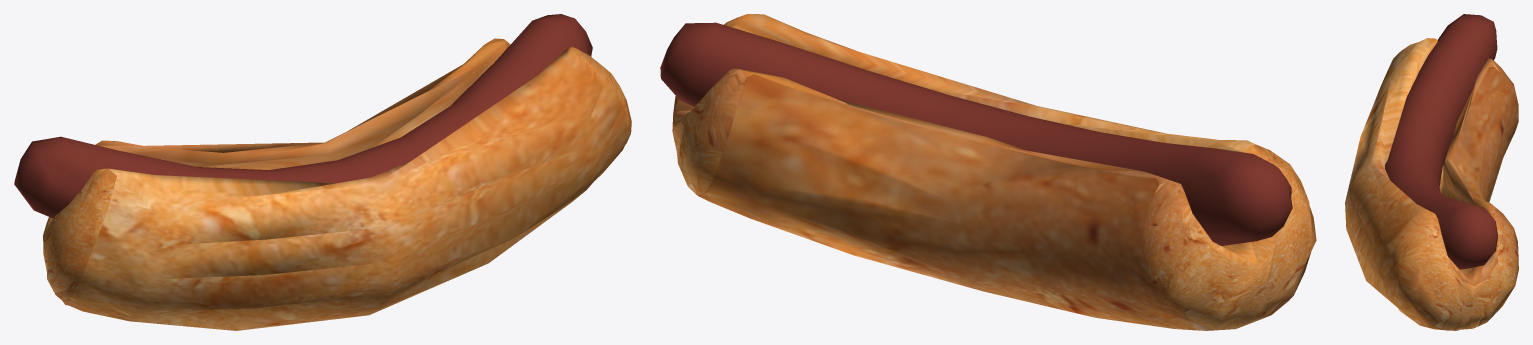
Rendered from hotdog.FBX.
3 views of the same model, side by side, from view 1: azimuth 30°, elevation 25°; view 2: azimuth 150°, elevation 25°; view 3: azimuth 270°, elevation 25° (orthographic). The views are drawn at different scales.
Visible parts, largest first — view 1: Cylinder004; view 2: Cylinder004; view 3: Cylinder004.
Part boxes in pixels (x1,y1,x2,y2): Cylinder004: (14, 14, 631, 330); Cylinder004: (660, 14, 1316, 330); Cylinder004: (1345, 14, 1518, 330).
Bounding box in the file's own units: 146 × 49.25 × 48.35.
2 materials, 1 textured.
